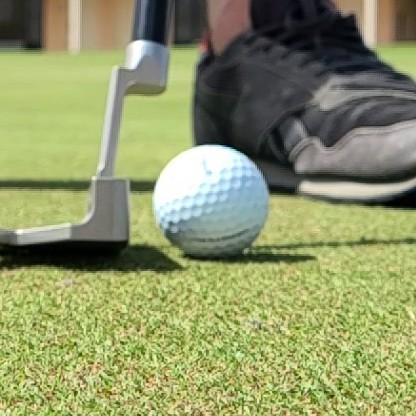golfball: (153, 146, 270, 257)
